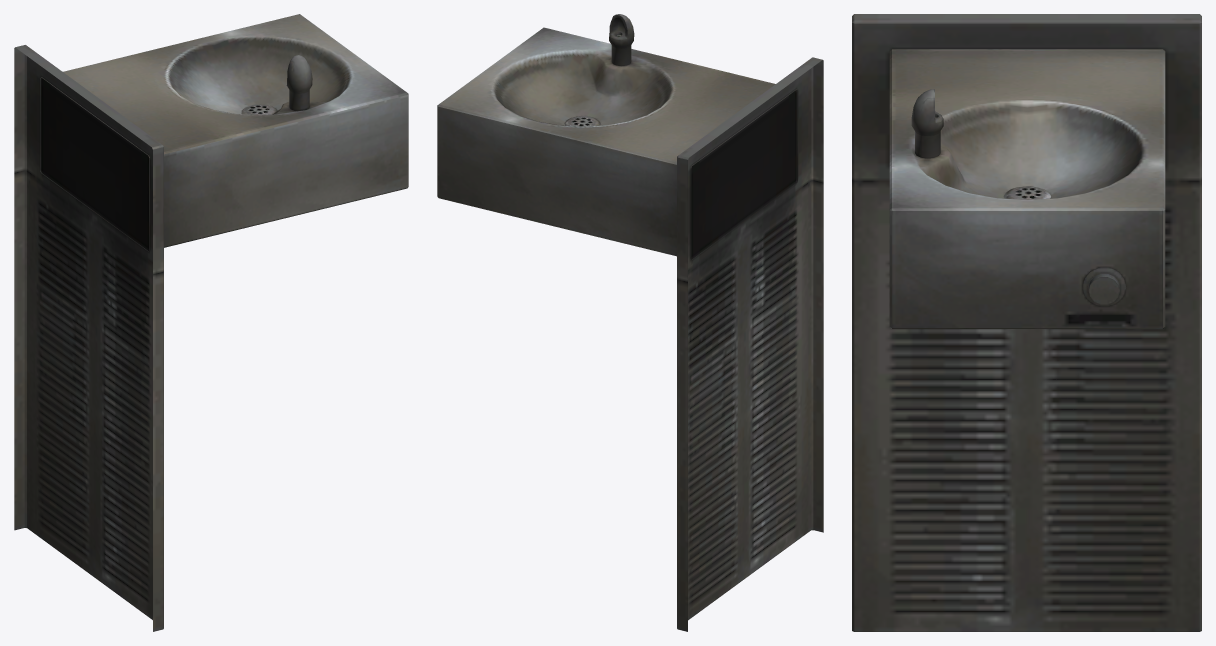
File: drinking_fountain.glb
The picture shows the model from 3 angles, left to right: view 1: azimuth 30°, elevation 25°; view 2: azimuth 150°, elevation 25°; view 3: azimuth 270°, elevation 25°; orthographic projection. The views are drawn at different scales.
Parts seen in each view (by area): view 1: drinking_fountain; view 2: drinking_fountain; view 3: drinking_fountain.
Part boxes in pixels (x1,y1,x2,y2): drinking_fountain: (14,14,408,631); drinking_fountain: (437,14,823,631); drinking_fountain: (852,14,1201,631).
Size of the model in its own units: 0.3519 by 0.6156 by 0.3036.
Materials: 1 (1 with a texture image).
